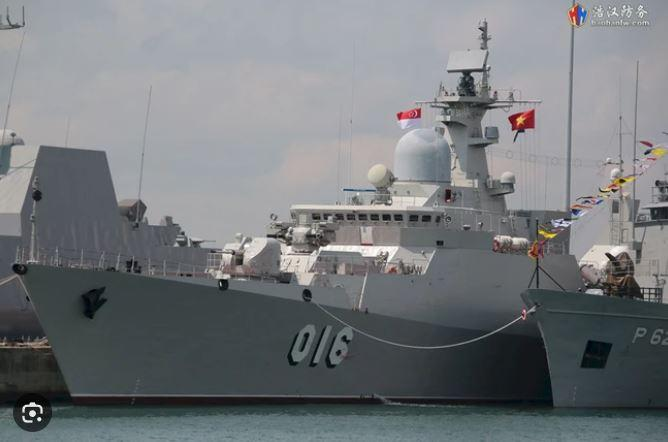MIL_Ship: (17, 20, 549, 403), (522, 178, 668, 411)
